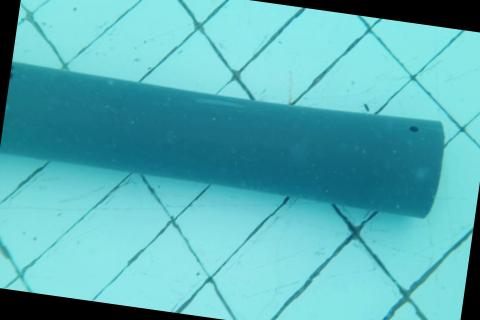kebocoran: (407, 124, 419, 133), (9, 64, 14, 82)
